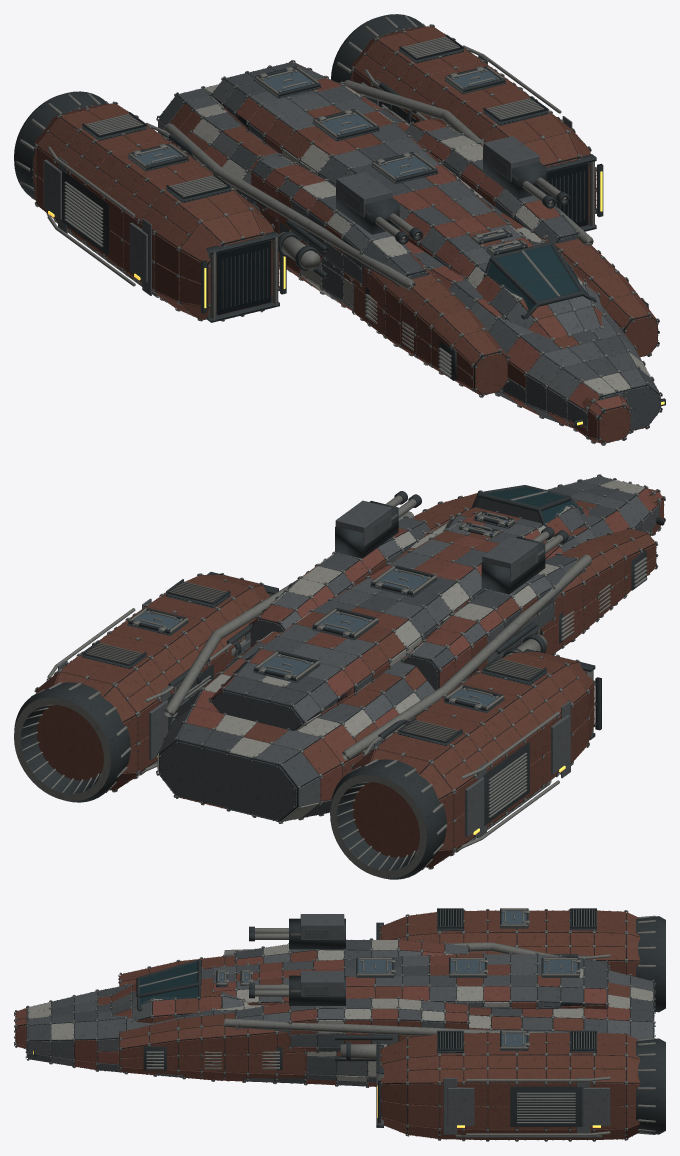
The picture shows the model from 3 angles, top to bottom: view 1: azimuth 30°, elevation 25°; view 2: azimuth 150°, elevation 25°; view 3: azimuth 270°, elevation 25°; orthographic projection. The views are drawn at different scales.
Parts seen in each view (by area): view 1: salvage-red-0, dark-structure, machined-alloy, armour-3, armour-2, armour-0, armour-1, salvage-red-2, salvage-red-1, pale-steel-0, recess-black, canopy-glass (+2 smaller); view 2: salvage-red-0, dark-structure, machined-alloy, armour-0, armour-3, armour-2, pale-steel-0, salvage-red-2, armour-1, salvage-red-1, blue-grey-1, canopy-glass (+4 smaller); view 3: salvage-red-0, dark-structure, machined-alloy, armour-3, armour-2, armour-0, salvage-red-1, pale-steel-0, armour-1, salvage-red-2, blue-grey-1, recess-black (+6 smaller).
Boxes of the visible parts, <box> form: salvage-red-0: <box>33,26,657,442</box>; dark-structure: <box>14,14,665,445</box>; machined-alloy: <box>16,16,662,445</box>; armour-3: <box>43,54,642,426</box>; armour-2: <box>177,70,660,423</box>; armour-0: <box>159,62,659,429</box>; armour-1: <box>204,86,635,410</box>; salvage-red-2: <box>171,62,630,443</box>; salvage-red-1: <box>173,78,629,443</box>; pale-steel-0: <box>192,84,650,395</box>; recess-black: <box>100,40,588,314</box>; canopy-glass: <box>487,245,588,311</box>; salvage-red-0: <box>36,492,658,867</box>; dark-structure: <box>14,475,665,879</box>; machined-alloy: <box>14,474,665,878</box>; armour-0: <box>158,477,616,820</box>; armour-3: <box>58,486,659,838</box>; armour-2: <box>158,476,614,764</box>; pale-steel-0: <box>157,480,644,821</box>; salvage-red-2: <box>186,488,663,808</box>; armour-1: <box>181,481,641,821</box>; salvage-red-1: <box>223,507,658,778</box>; blue-grey-1: <box>133,514,508,706</box>; canopy-glass: <box>485,487,577,522</box>; salvage-red-0: <box>15,910,640,1139</box>; dark-structure: <box>14,908,665,1140</box>; machined-alloy: <box>14,908,655,1141</box>; armour-3: <box>51,944,629,1134</box>; armour-2: <box>28,914,653,1076</box>; armour-0: <box>26,940,654,1083</box>; salvage-red-1: <box>16,940,560,1084</box>; pale-steel-0: <box>28,940,653,1081</box>; armour-1: <box>51,929,581,1081</box>; salvage-red-2: <box>16,942,629,1086</box>; blue-grey-1: <box>219,911,577,1046</box>; recess-black: <box>438,910,595,1048</box>.
Bounding box in the file's own units: 33.82 × 11.59 × 56.31.
14 materials, 12 textured.
